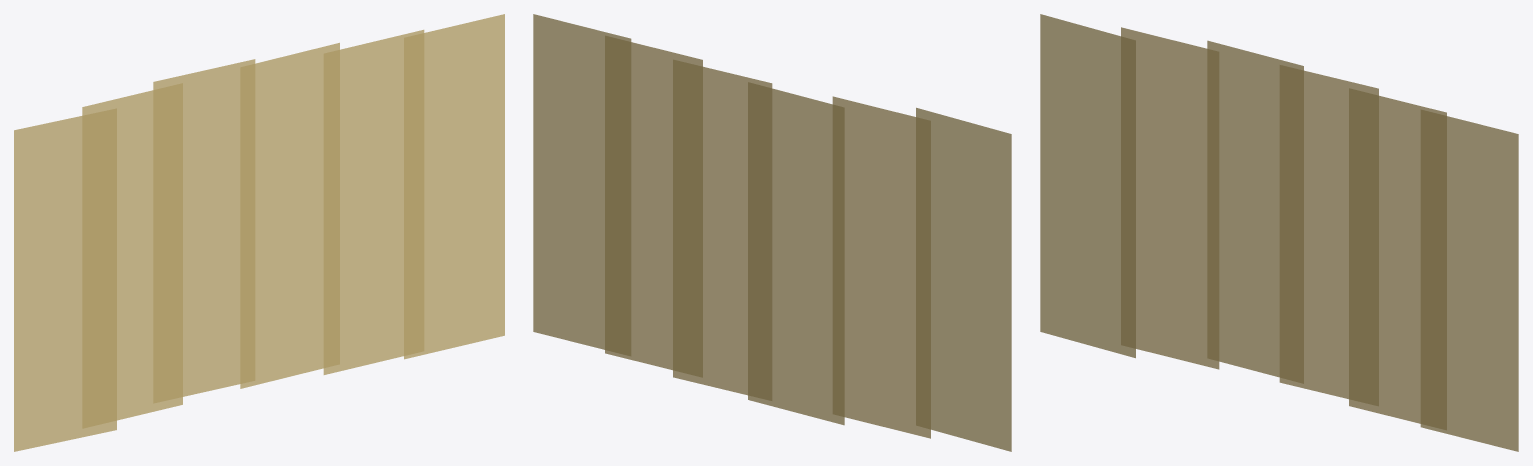
Rendered from cortina sala tec3fbx.fbx.
3 views of the same model, side by side, from view 1: azimuth 30°, elevation 25°; view 2: azimuth 150°, elevation 25°; view 3: azimuth 330°, elevation 25° (orthographic).
Visible parts, largest first — view 1: Plane.001; view 2: Plane.001; view 3: Plane.001.
Boxes of the visible parts, left/top/right/bottom form: Plane.001: left=14, top=14, right=504, bottom=451; Plane.001: left=533, top=14, right=1011, bottom=451; Plane.001: left=1040, top=14, right=1518, bottom=451.
Size of the model in its own units: 3.45 by 2.18 by 0.2242.
